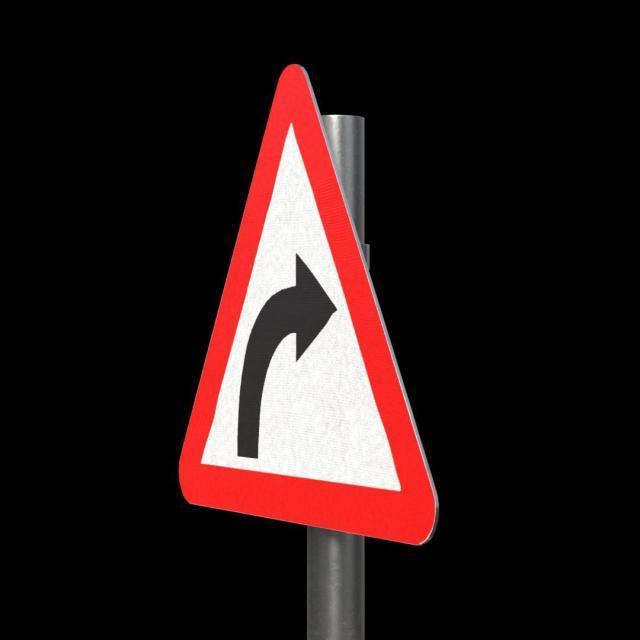right hand curve: (163, 55, 448, 561)
